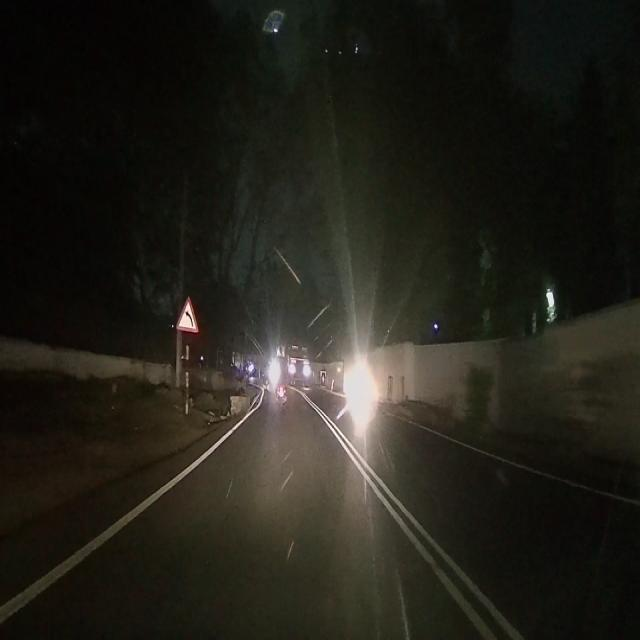left-hand-curve: (176, 292, 198, 329)
